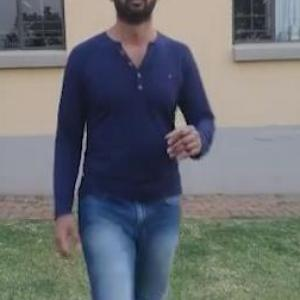follow: (45, 0, 194, 299)
